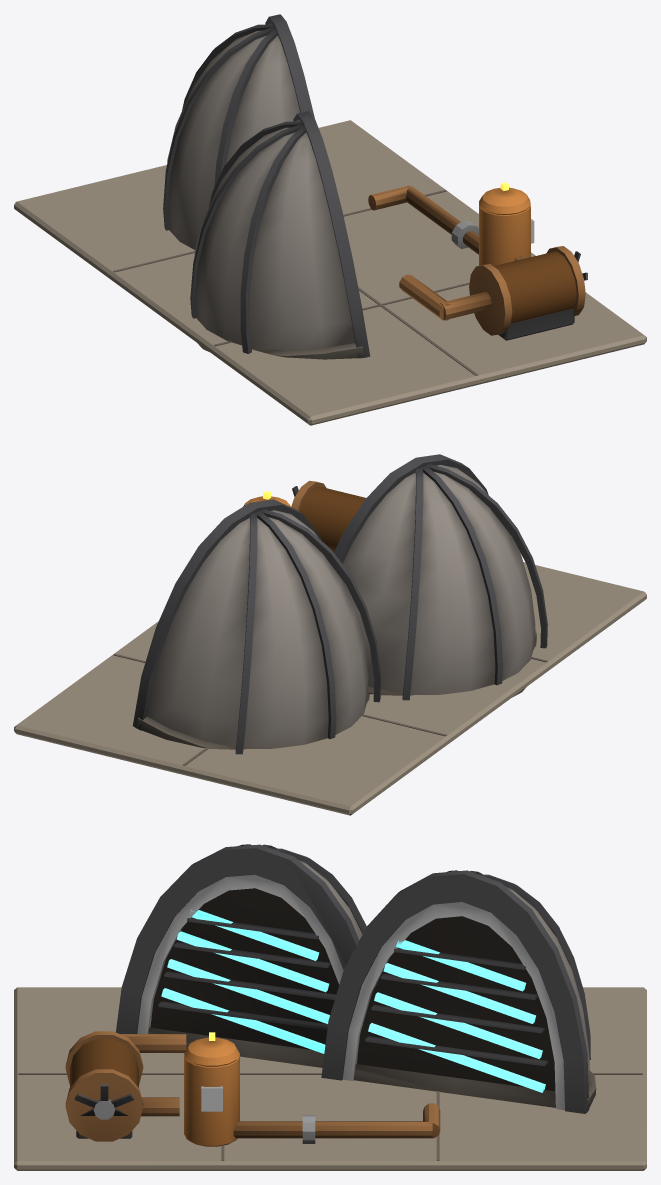
Rendered from HARKONNEN_WIND_TRAP.glb.
3 views of the same model, one above another, from view 1: azimuth 30°, elevation 25°; view 2: azimuth 150°, elevation 25°; view 3: azimuth 270°, elevation 25° (orthographic). The views are drawn at different scales.
Parts seen in each view (by area): view 1: base, shell_S, shell_N, turbine; view 2: shell_N, shell_S, base, turbine; view 3: base, shell_N, shell_S, turbine, fan.
Part boxes in pixels (x1,y1,x2,y2): base: (14, 120, 646, 425); shell_S: (190, 111, 370, 359); shell_N: (163, 14, 314, 249); turbine: (368, 182, 585, 340); shell_N: (132, 499, 381, 754); shell_S: (334, 454, 547, 700); base: (14, 562, 646, 815); turbine: (243, 480, 365, 552); base: (14, 987, 646, 1170); shell_N: (321, 870, 596, 1113); shell_S: (116, 844, 376, 1067); turbine: (65, 1031, 440, 1146); fan: (74, 1084, 134, 1119).
Size of the model in its own units: 1.94 by 1.18 by 2.94.
